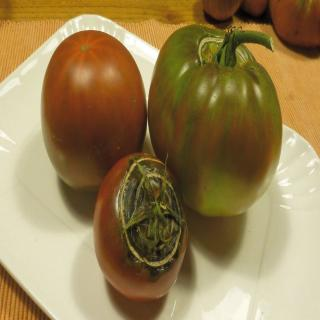tomato: (146, 23, 284, 220), (42, 27, 146, 189), (91, 151, 188, 298)
